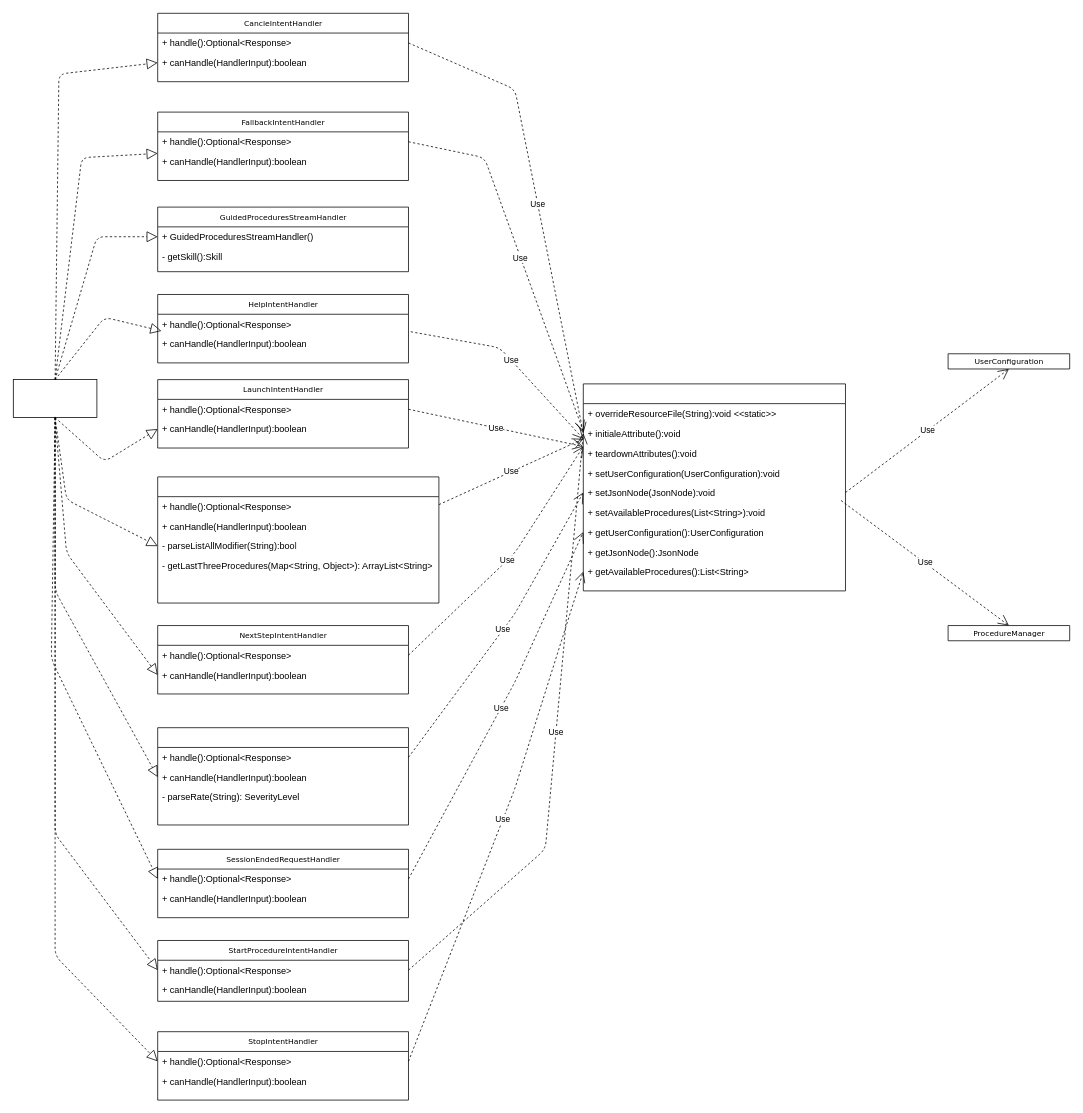
Image size: 1083x1113. Some labels were removed from this diagram. The shapes that lost their labels are listed below. From the top down, each one's box as (x1, y1, x2, y2) in pixels, then its label:
(13, 379, 97, 418): «interface» RequestHandler
(583, 383, 846, 591): SessionAttributes
(157, 476, 439, 603): ListProceduresIntentHandler
(157, 727, 408, 825): RepeatStepIntentHandler
